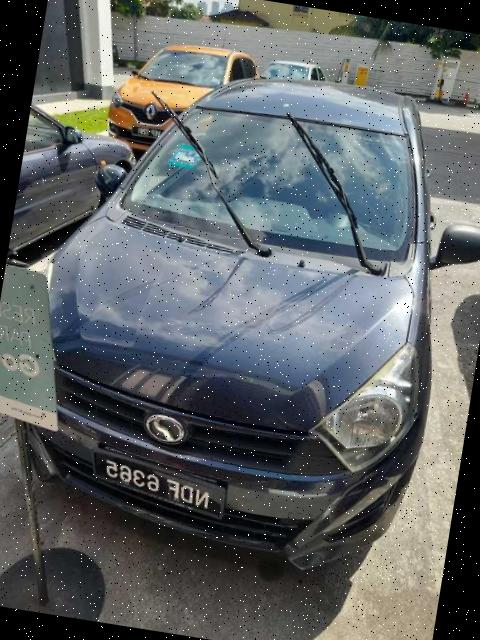License_Plate: (86, 448, 232, 521)
car: (1, 34, 480, 593), (102, 32, 263, 177)
